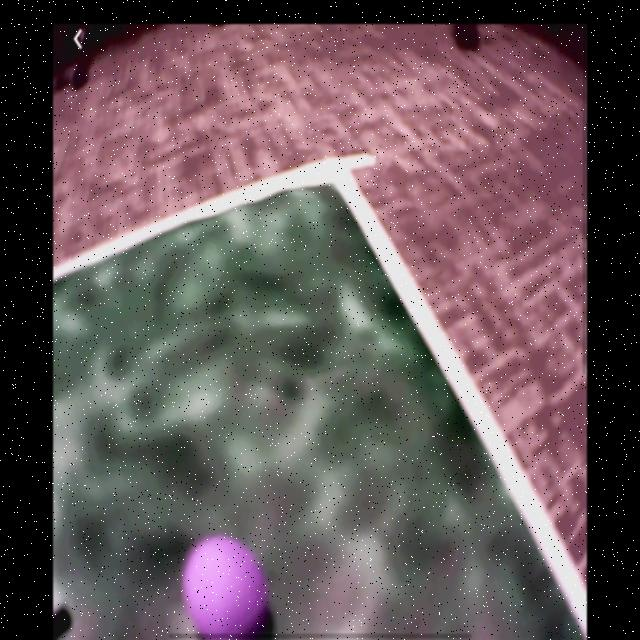ball: (176, 536, 269, 637)
